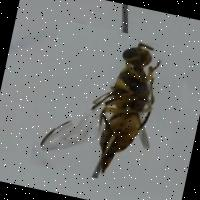Oriental-fruit-fly: (28, 18, 190, 190)
